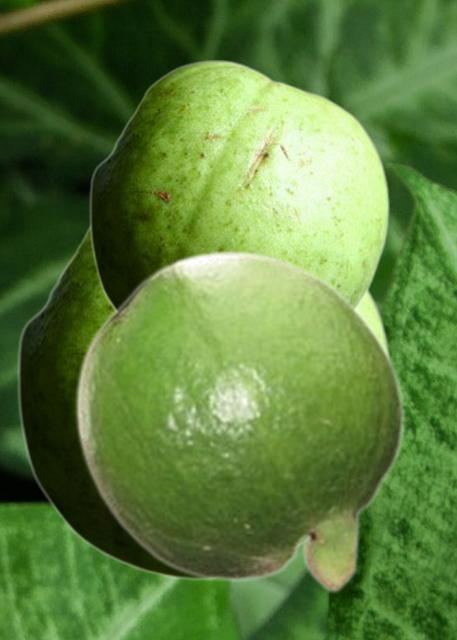guava: (17, 224, 389, 579), (73, 248, 404, 594), (89, 60, 388, 308)
